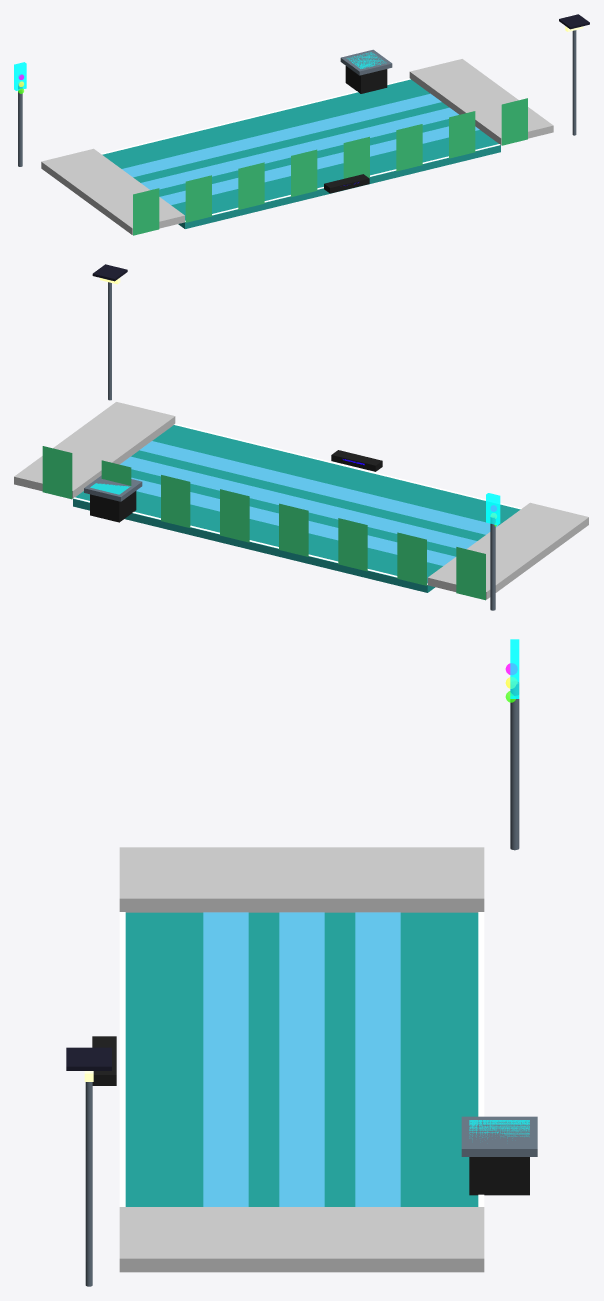
Rendered from environment.glb.
3 views of the same model, one above another, from view 1: azimuth 30°, elevation 25°; view 2: azimuth 150°, elevation 25°; view 3: azimuth 270°, elevation 25° (orthographic). The views are drawn at different scales.
Size of the model in its own units: 35.15 by 8.78 by 15.5.
